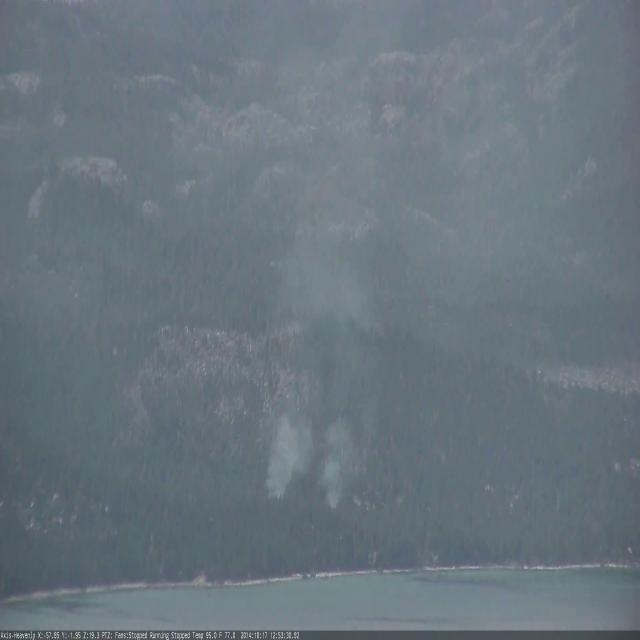smoke: (260, 0, 443, 504), (442, 2, 574, 316)
